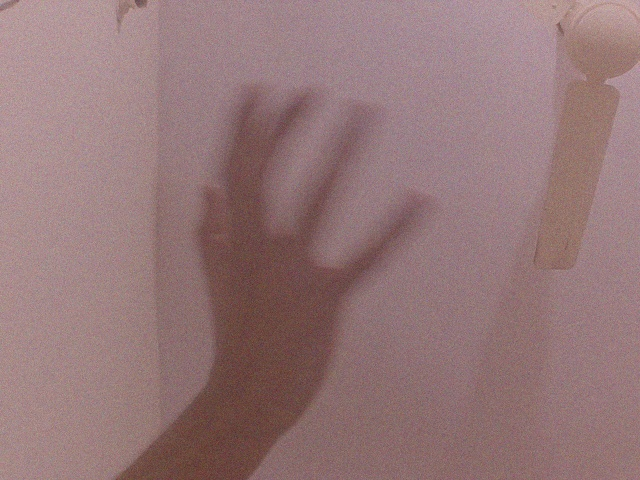hand: (181, 75, 441, 426)
